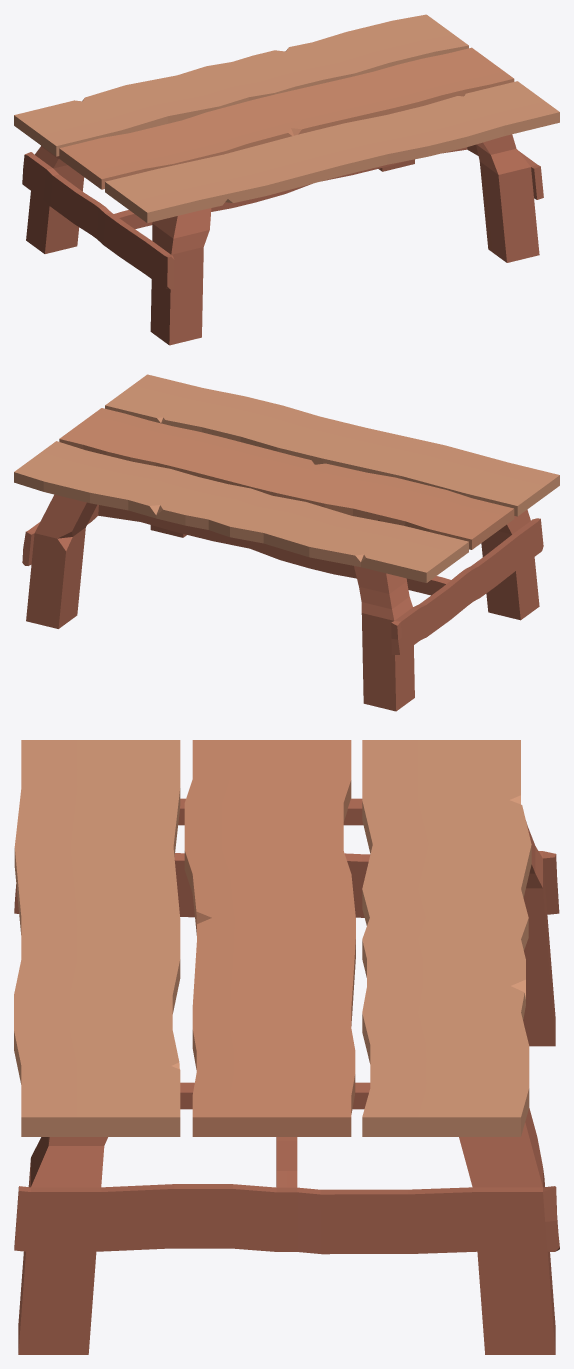
Rendered from Table.fbx.
3 renders of one model, top to bottom at view 1: azimuth 30°, elevation 25°; view 2: azimuth 150°, elevation 25°; view 3: azimuth 270°, elevation 25°, orthographic. The views are drawn at different scales.
Visible parts, largest first — view 1: Table; view 2: Table; view 3: Table.
Part boxes in pixels (x1,y1,x2,y2): Table: [14, 14, 559, 345]; Table: [14, 374, 559, 711]; Table: [14, 740, 559, 1354].
Size of the model in its own units: 2.7 by 0.859 by 1.65.
